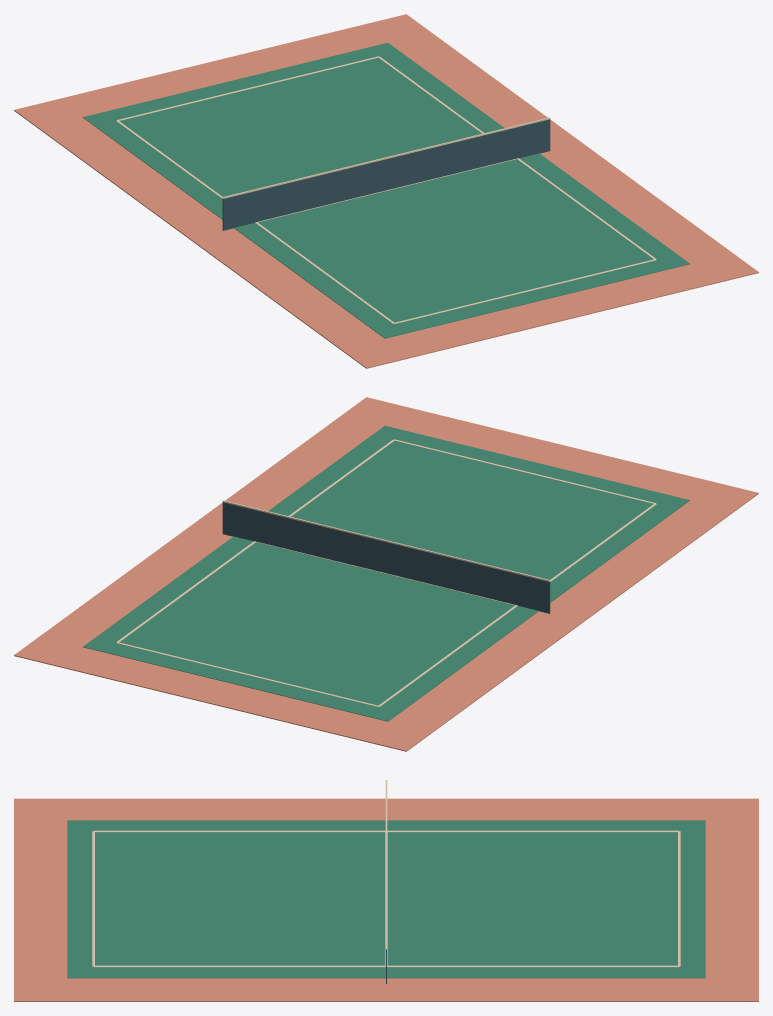
Rendered from tennisCourt.obj.
3 renders of one model, top to bottom at view 1: azimuth 30°, elevation 25°; view 2: azimuth 150°, elevation 25°; view 3: azimuth 270°, elevation 25°, orthographic. The views are drawn at different scales.
Parts seen in each view (by area): view 1: tennisCourt; view 2: tennisCourt; view 3: tennisCourt.
Part boxes in pixels (x1,y1,x2,y2): tennisCourt: (14,14,758,368); tennisCourt: (14,397,758,751); tennisCourt: (14,780,758,1001).
Size of the model in its own units: 18 by 1.51 by 28.
